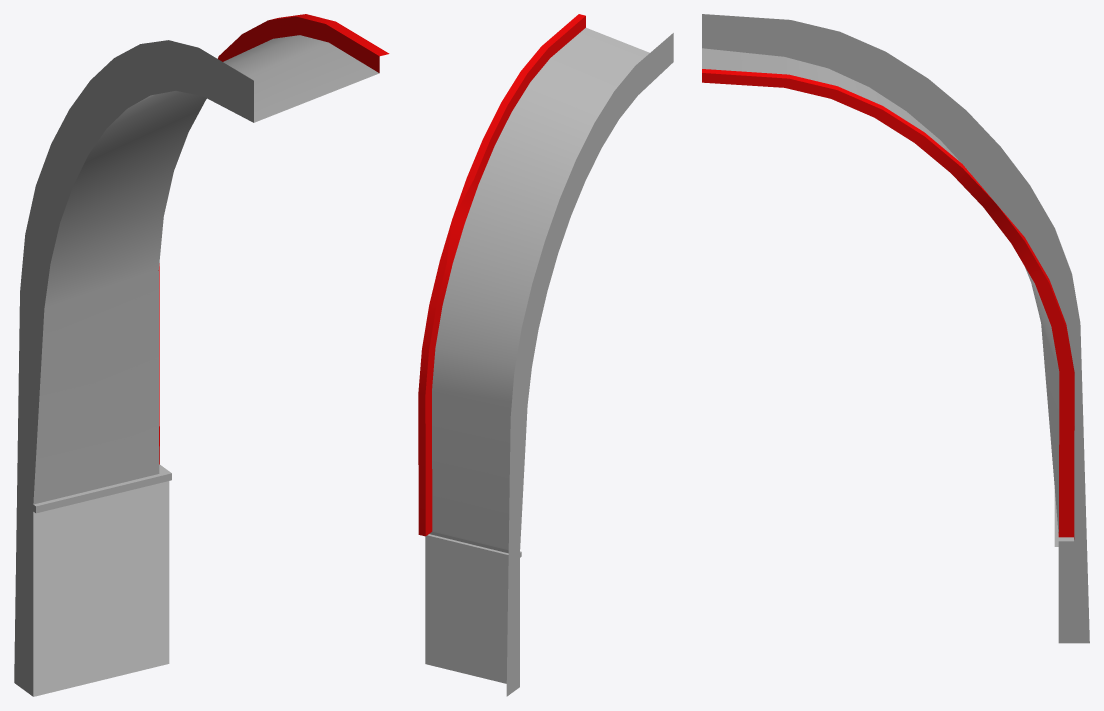
File: LeftWall.bbc8020b.glb
The picture shows the model from 3 angles, left to right: view 1: azimuth 30°, elevation 25°; view 2: azimuth 150°, elevation 25°; view 3: azimuth 270°, elevation 25°; orthographic projection. The views are drawn at different scales.
Parts seen in each view (by area): view 1: Left_wall; view 2: Left_wall; view 3: Left_wall.
Part boxes in pixels (left/top/right/bottom): Left_wall: left=14, top=14, right=389, bottom=696; Left_wall: left=418, top=14, right=673, bottom=696; Left_wall: left=702, top=14, right=1089, bottom=643.
Size of the model in its own units: 3.05 by 16.66 by 9.31.
